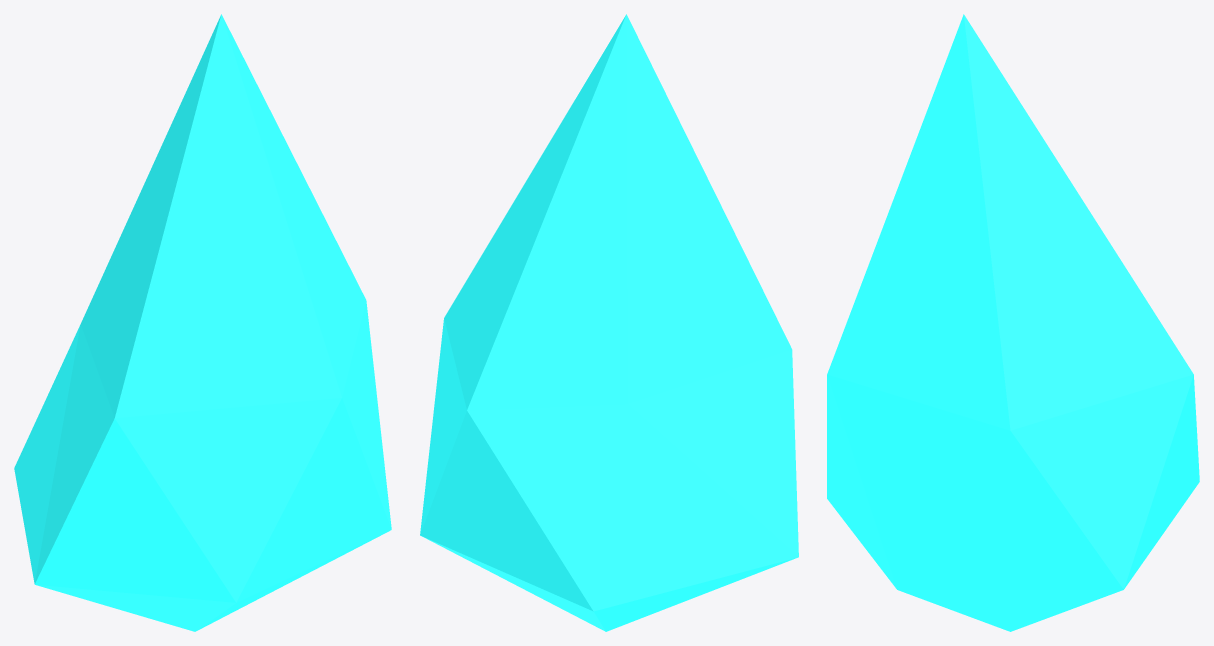
The model's file is Item_Crystal.fbx.
The picture shows the model from 3 angles, left to right: view 1: azimuth 30°, elevation 25°; view 2: azimuth 150°, elevation 25°; view 3: azimuth 270°, elevation 25°; orthographic projection. The views are drawn at different scales.
Parts seen in each view (by area): view 1: Item Crystal; view 2: Item Crystal; view 3: Item Crystal.
Boxes of the visible parts, <box> form: Item Crystal: <box>14,14,391,631</box>; Item Crystal: <box>420,14,798,631</box>; Item Crystal: <box>827,14,1199,631</box>.
Size of the model in its own units: 185 by 317 by 173.
